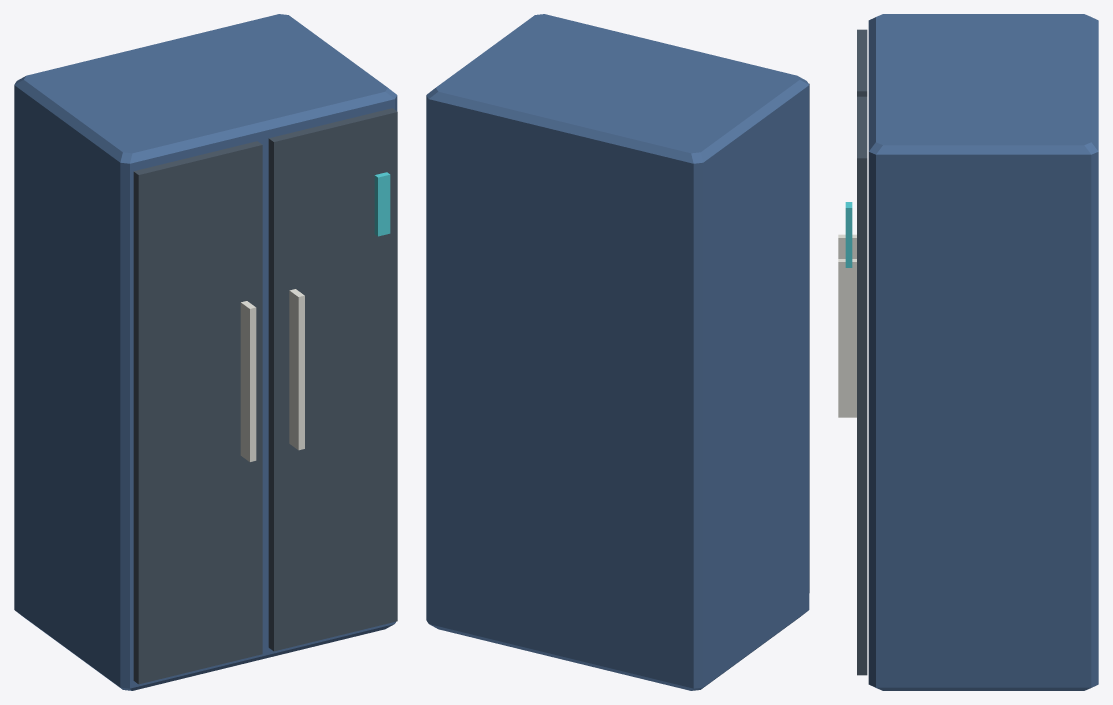
Rendered from v18_interior_blue_fridge.glb.
The picture shows the model from 3 angles, left to right: view 1: azimuth 30°, elevation 25°; view 2: azimuth 150°, elevation 25°; view 3: azimuth 270°, elevation 25°; orthographic projection.
Parts seen in each view (by area): view 1: _MeshInstance3D_4877, _MeshInstance3D_4878, _MeshInstance3D_4880, _MeshInstance3D_4879, _MeshInstance3D_4881, _MeshInstance3D_4882; view 2: _MeshInstance3D_4877; view 3: _MeshInstance3D_4877, _MeshInstance3D_4880, _MeshInstance3D_4881, _MeshInstance3D_4878, _MeshInstance3D_4882.
Boxes of the visible parts, <box> form: _MeshInstance3D_4877: <box>14,14,397,690</box>; _MeshInstance3D_4878: <box>133,141,262,684</box>; _MeshInstance3D_4880: <box>268,108,397,651</box>; _MeshInstance3D_4879: <box>240,301,256,461</box>; _MeshInstance3D_4881: <box>289,289,304,450</box>; _MeshInstance3D_4882: <box>374,172,390,236</box>; _MeshInstance3D_4877: <box>426,14,809,690</box>; _MeshInstance3D_4877: <box>868,14,1098,690</box>; _MeshInstance3D_4880: <box>857,96,867,675</box>; _MeshInstance3D_4881: <box>838,259,856,417</box>; _MeshInstance3D_4878: <box>857,29,867,96</box>; _MeshInstance3D_4882: <box>845,202,852,267</box>.
Size of the model in its own units: 0.9171 by 1.7 by 0.7344.
